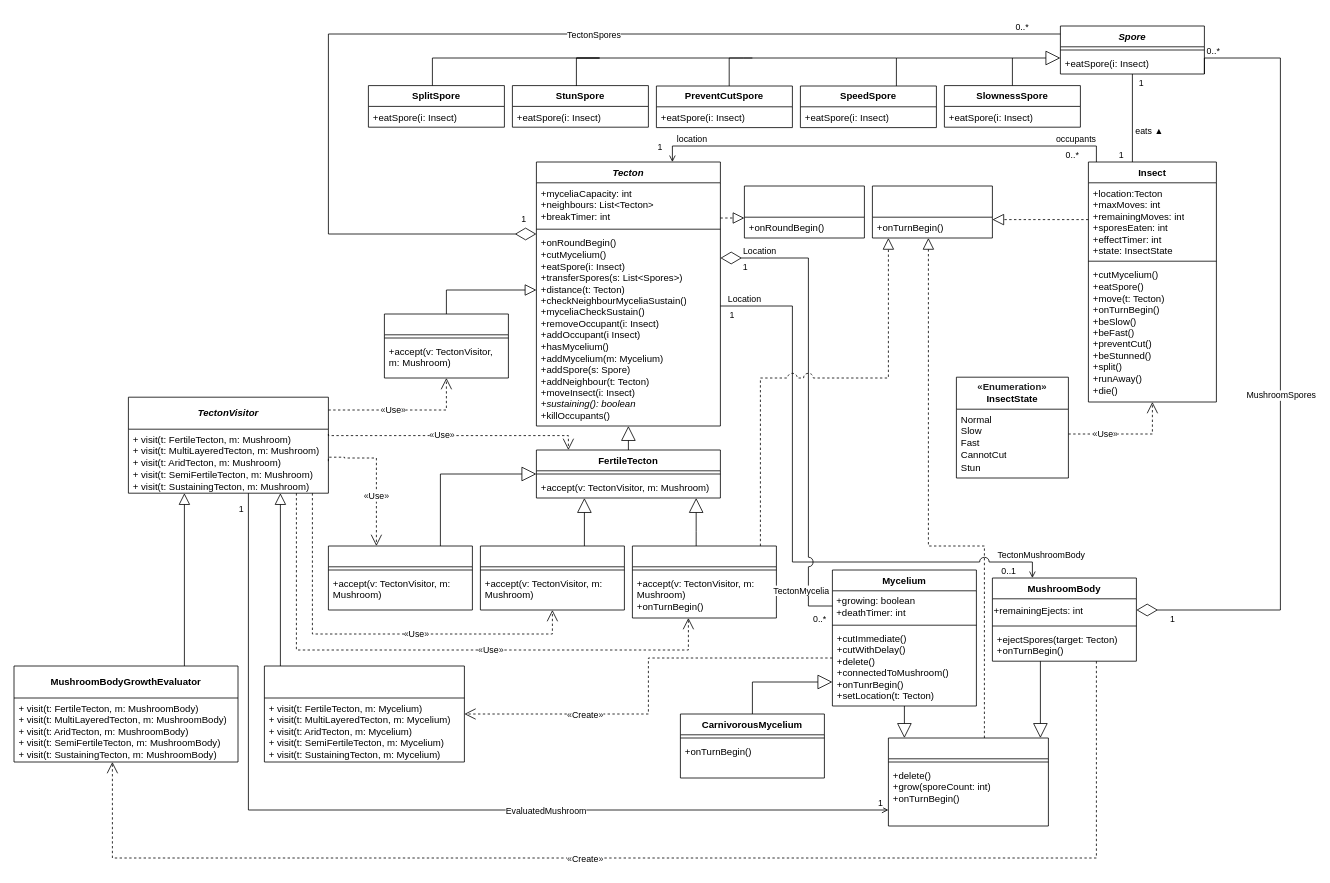
This 1330x883 diagram has some shape labels left out. The box of each missing label's shape, as (x1, y1, x2, y2) in pixels:
AridTecton: (632, 545, 776, 618)
MultiLayeredTecton: (328, 545, 472, 610)
Mushroom: (888, 737, 1048, 826)
MyceliumGrowthEvaluator: (264, 665, 464, 762)
SemiFertileTecton: (384, 313, 508, 378)
SustainingTecton: (480, 545, 624, 610)
« Interface » RoundBeginSubscriber: (744, 185, 864, 238)
« Interface » TurnBeginSubscriber: (872, 185, 992, 238)
